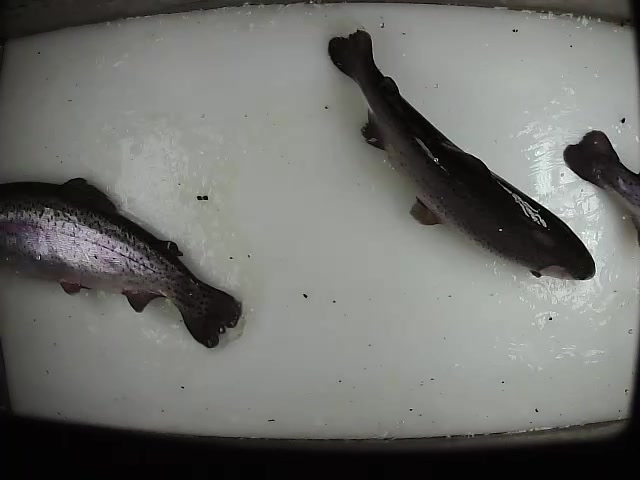fish: (325, 27, 599, 285), (1, 173, 246, 353)
